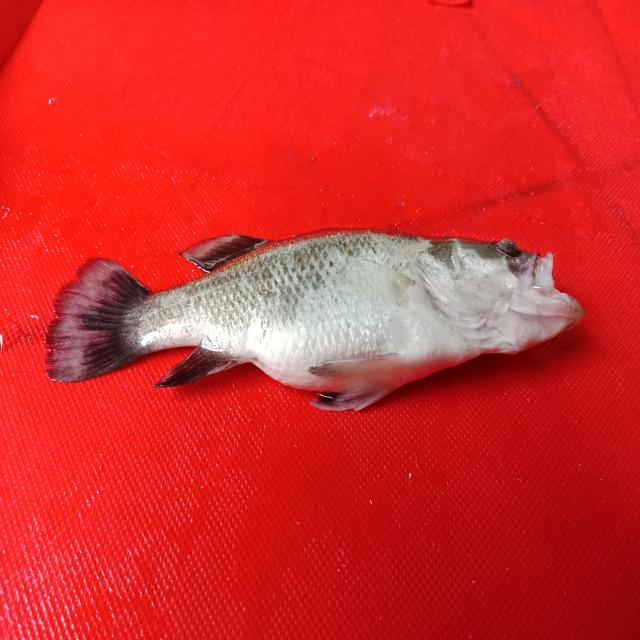ikan: (32, 198, 589, 428)
